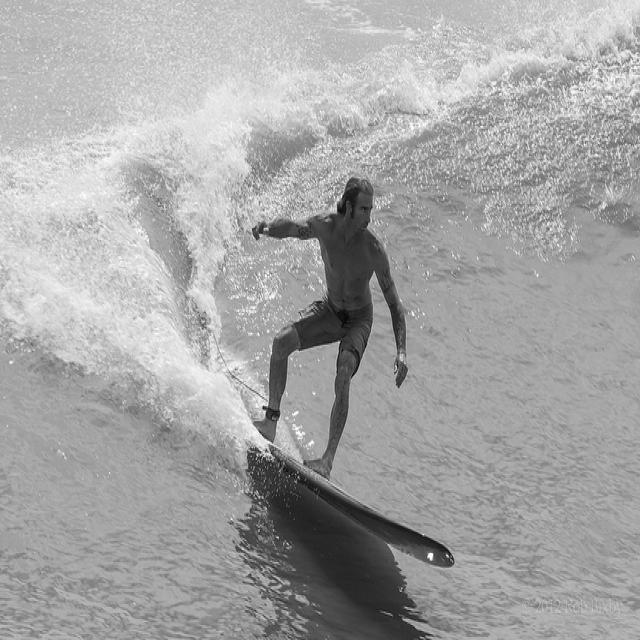monkey: (247, 169, 411, 480)
